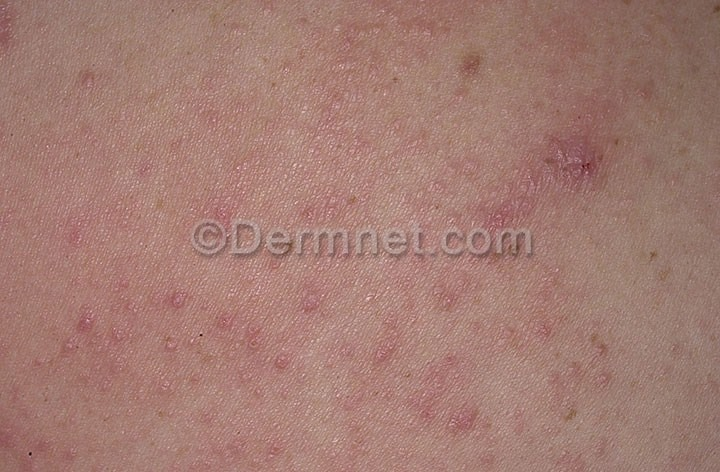Eczema: (2, 5, 718, 472)
